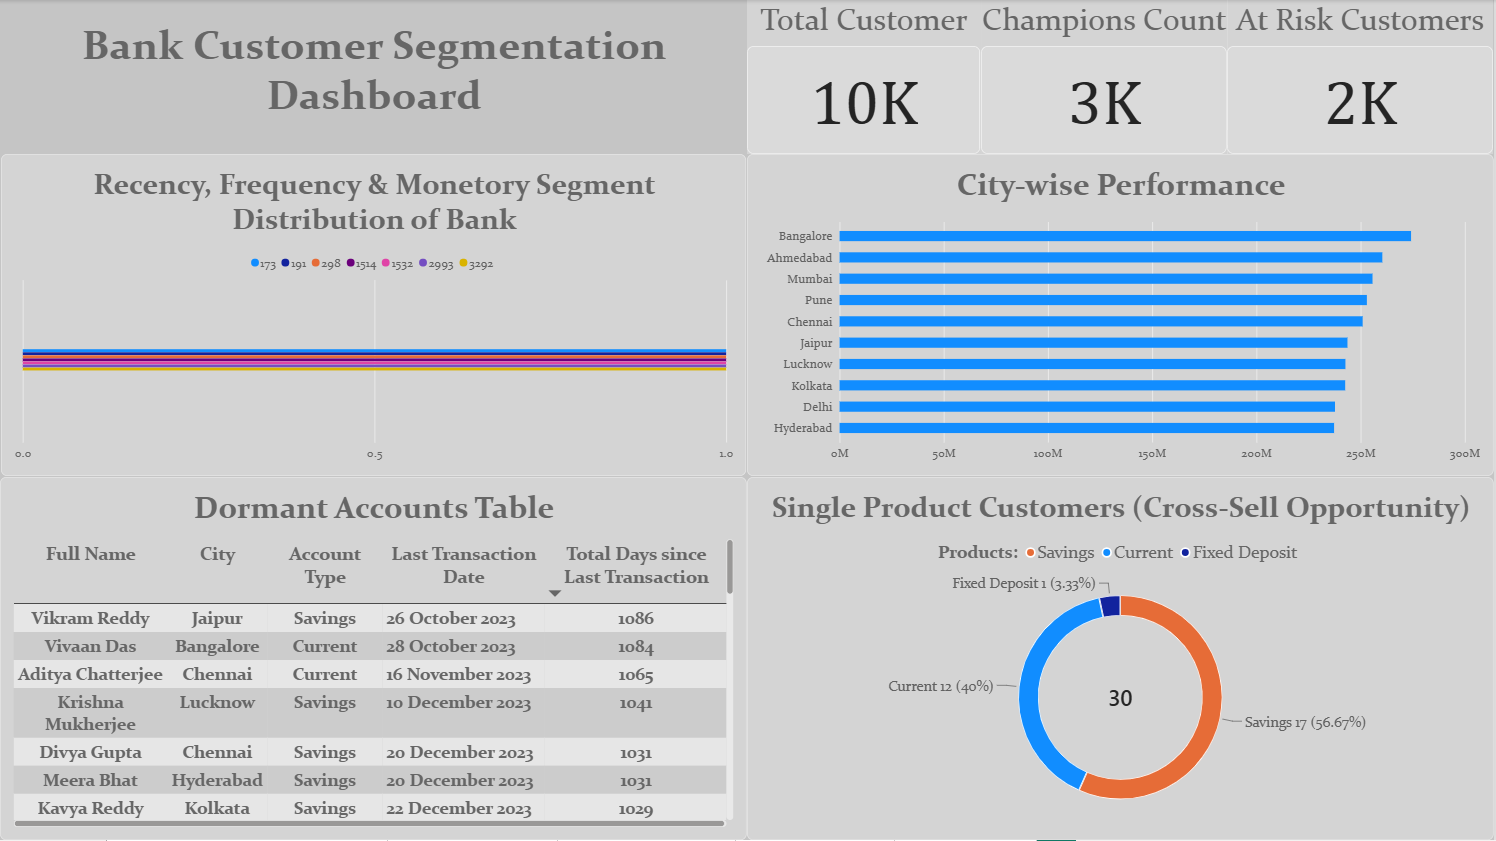

The dashboard page shown, as its layout file describes it:
{"tool":"powerbi","page":{"name":"Overall Dashboard","canvas":[1920,1080],"ordinal":4},"visuals":[{"type":"clusteredBarChart","title":"City-wise Performance","fields":{"Category":["city_performance.city"],"Y":["Sum(city_performance.total_transaction_volume)"]},"box":[960,198.4,960,414.4],"z":0},{"type":"donutChart","title":"Single Product Customers (Cross-Sell Opportunity)","fields":{"Category":["single_product_customers.products_held"],"Y":["CountNonNull(single_product_customers.customer_id)"]},"box":[960,612.8,960,467.2],"z":1},{"type":"tableEx","title":"Dormant Accounts Table","fields":{"Values":["dormant_accounts.full_name","dormant_accounts.city","dormant_accounts.account_type","dormant_accounts.last_transaction_date","dormant_accounts.days_since_last_transaction"]},"box":[0,612.8,960,467.2],"z":2},{"type":"clusteredBarChart","title":"Recency, Frequency & Monetory Segment Distribution of Bank","fields":{"Series":["rfm_segment_summary.total_customers"],"Y":["CountNonNull(rfm_segment_summary.customer_segment)"]},"box":[1.6,198.4,958.4,414.4],"z":3},{"type":"cardVisual","title":"Total Customer","fields":{"Data":["rfm_segment_summary.Total Customers"]},"box":[960,0,300.8,198.4],"z":4},{"type":"cardVisual","title":"Champions Count","fields":{"Data":["rfm_segment_summary.Champions Count"]},"box":[1260.8,0,316.8,198.4],"z":5},{"type":"cardVisual","title":"At Risk Customers","fields":{"Data":["rfm_segment_summary.At Risk Customers"]},"box":[1577.6,0,342.4,198.4],"z":6},{"type":"textbox","box":[14.4,24,934.4,150.4],"z":7}]}

Visuals, with their boxes in screenshot pixels (x1, y1, x2, y2), scaled from the page's 1920x1080 canvas onto the 1496x841 screenshot:
"City-wise Performance" clusteredBarChart: (x1=748, y1=154, x2=1495, y2=477)
"Single Product Customers (Cross-Sell Opportunity)" donutChart: (x1=748, y1=477, x2=1495, y2=840)
"Dormant Accounts Table" tableEx: (x1=0, y1=477, x2=748, y2=840)
"Recency, Frequency & Monetory Segment Distribution of Bank" clusteredBarChart: (x1=1, y1=154, x2=748, y2=477)
"Total Customer" cardVisual: (x1=748, y1=0, x2=982, y2=154)
"Champions Count" cardVisual: (x1=982, y1=0, x2=1229, y2=154)
"At Risk Customers" cardVisual: (x1=1229, y1=0, x2=1495, y2=154)
textbox: (x1=11, y1=19, x2=739, y2=136)
